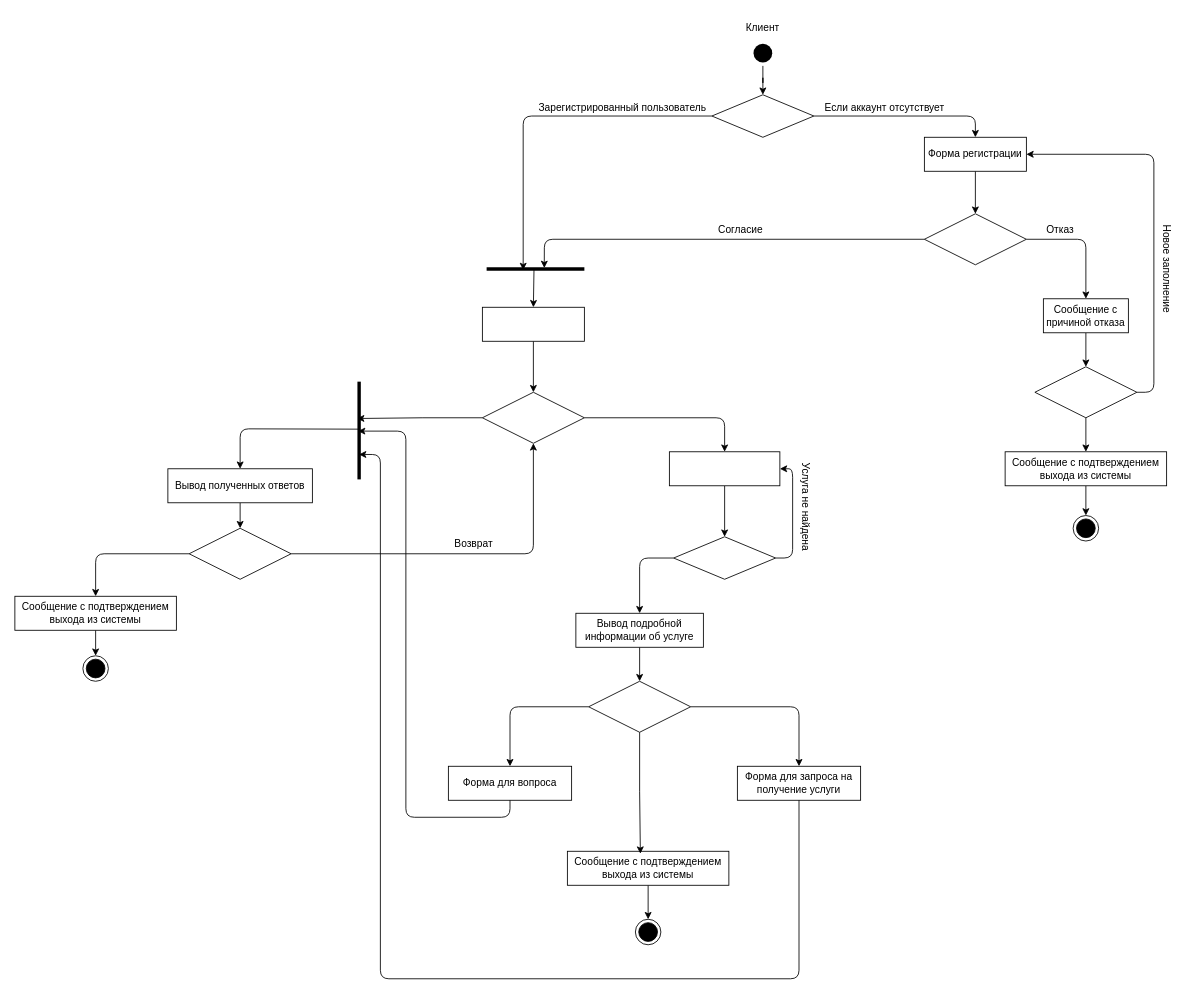
This 1194x1000 diagram has some shape labels left out. Each missing label, with the box of its shape:
Вывод списка услуг: (669, 451, 780, 486)
Ответ: (924, 213, 1026, 265)
Форма авторизации: (482, 306, 584, 341)
